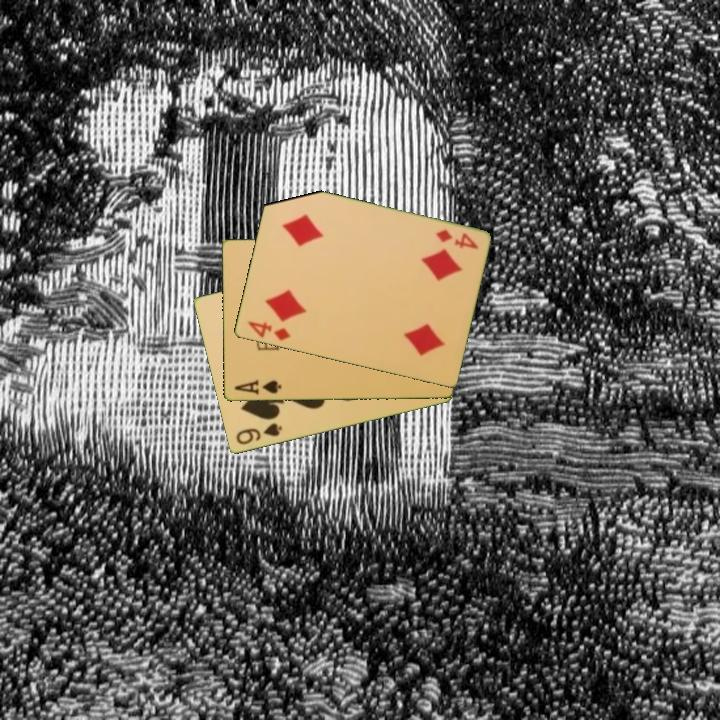4d: (243, 318, 293, 344), (431, 226, 480, 252)
9s: (232, 420, 285, 448)
As: (230, 376, 284, 397)
